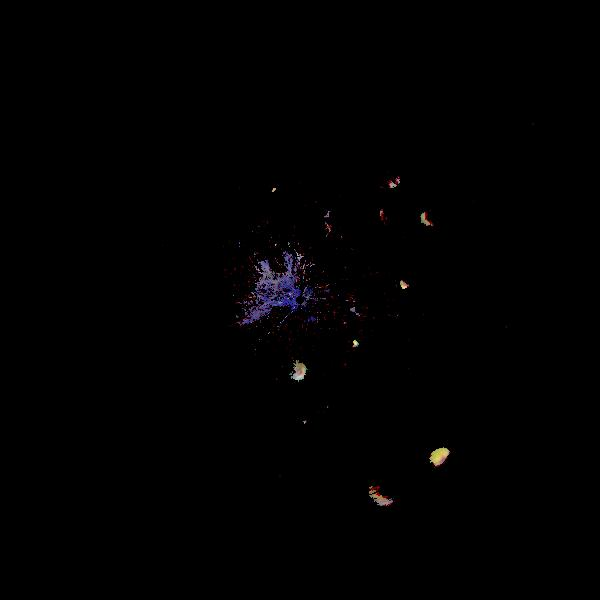roost: (430, 447, 460, 477), (283, 357, 310, 384), (422, 210, 440, 228), (395, 278, 410, 293), (349, 339, 361, 351), (271, 187, 277, 193)
